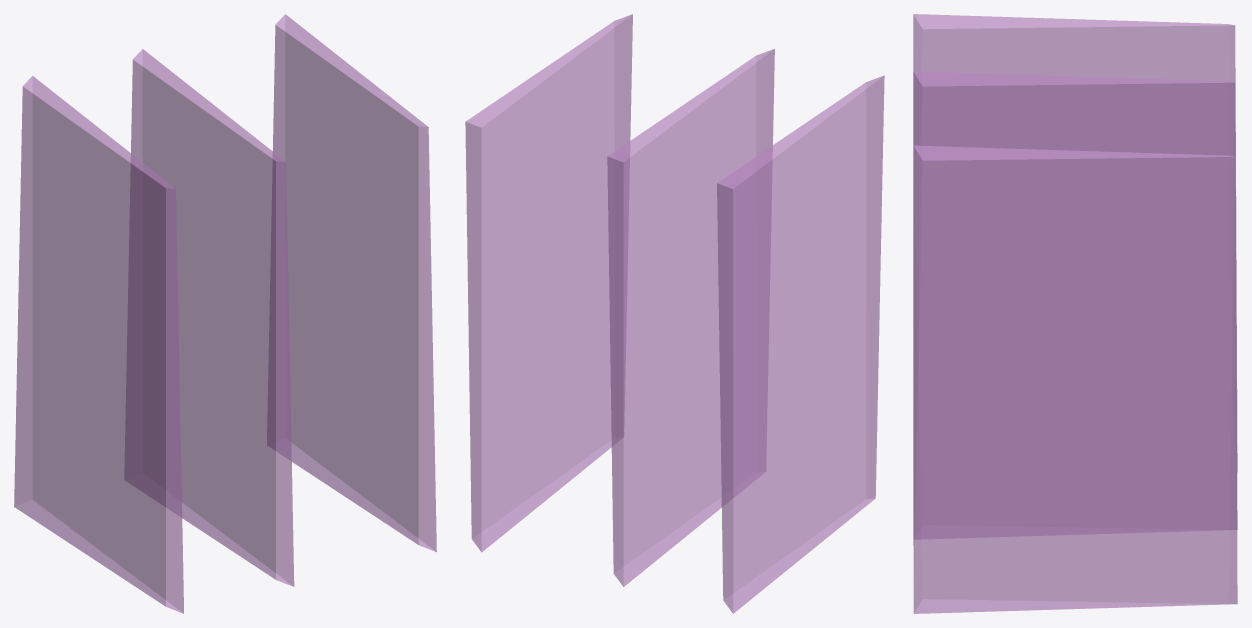
File: test-block.gltf
3 renders of one model, left to right at view 1: azimuth 30°, elevation 25°; view 2: azimuth 150°, elevation 25°; view 3: azimuth 270°, elevation 25°, orthographic. The views are drawn at different scales.
Visible parts, largest first — view 1: Cube.001, Cube.003, Cube.002; view 2: Cube.001, Cube.003, Cube.002; view 3: Cube.003, Cube.002, Cube.001.
Boxes of the visible parts, x1,y1,x2,y2 form: Cube.001: (14,76,183,613); Cube.003: (267,14,436,552); Cube.002: (125,49,294,586); Cube.001: (717,75,884,613); Cube.003: (465,14,632,552); Cube.002: (607,48,774,586); Cube.003: (913,145,1237,613); Cube.002: (913,71,1237,538); Cube.001: (913,14,1237,472).
Bounding box in the file's own units: 5.46 × 8.28 × 5.3.
